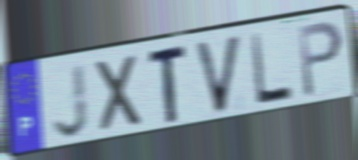J: (50, 61, 91, 141)
L: (248, 31, 296, 109)
P: (296, 18, 346, 101)
T: (147, 41, 189, 127)
V: (192, 32, 244, 118)
X: (93, 51, 146, 137)
